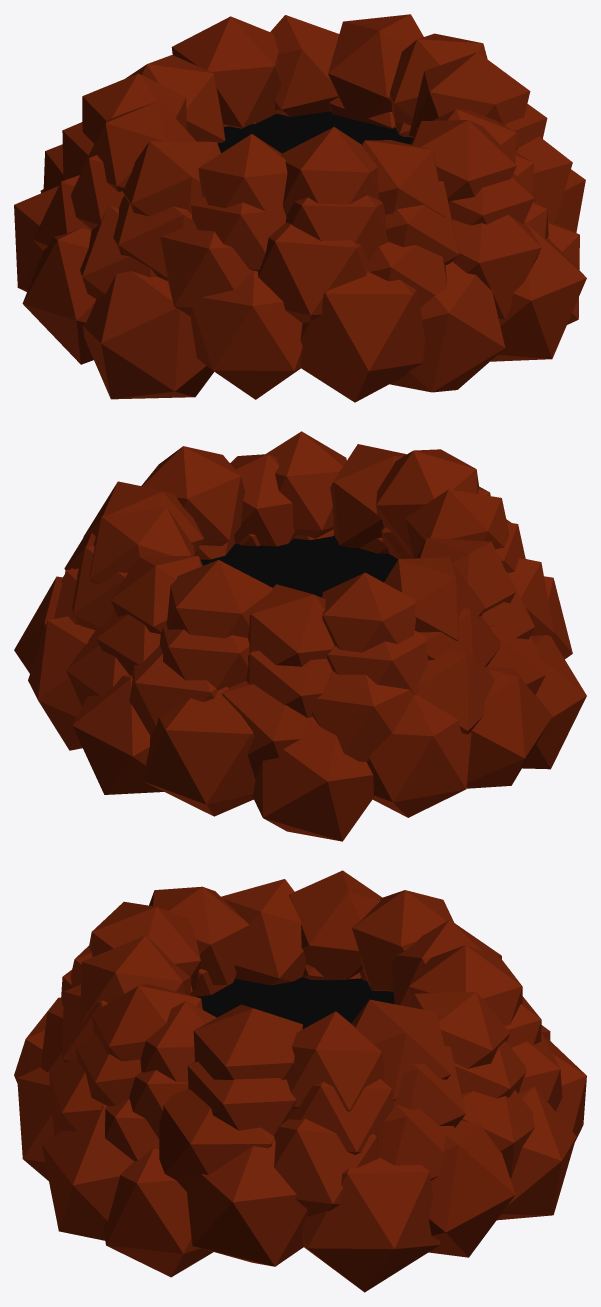
Rendered from Hole.glb.
3 views of the same model, one above another, from view 1: azimuth 30°, elevation 25°; view 2: azimuth 150°, elevation 25°; view 3: azimuth 270°, elevation 25° (orthographic). The views are drawn at different scales.
Parts seen in each view (by area): view 1: Icosphere, Plane; view 2: Icosphere, Plane; view 3: Icosphere, Plane.
Part boxes in pixels (bbox=[...]): Icosphere: bbox=[14, 14, 586, 402]; Plane: bbox=[217, 111, 413, 153]; Icosphere: bbox=[14, 431, 586, 841]; Plane: bbox=[200, 535, 398, 597]; Icosphere: bbox=[14, 870, 586, 1292]; Plane: bbox=[195, 977, 394, 1028].
Bounding box in the file's own units: 3.56 × 1.81 × 3.42.
